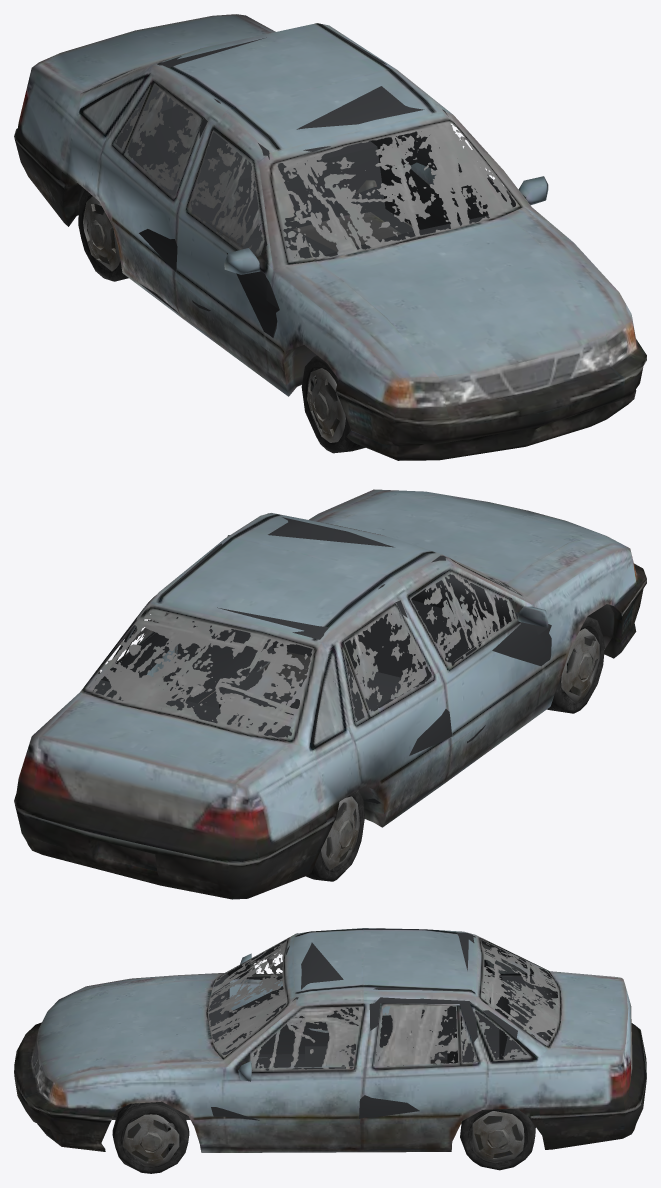
Rendered from car3_sedan_compact.glb.
3 renders of one model, top to bottom at view 1: azimuth 30°, elevation 25°; view 2: azimuth 150°, elevation 25°; view 3: azimuth 270°, elevation 25°, orthographic. The views are drawn at different scales.
Parts seen in each view (by area): view 1: Plane, Plane.004, Cylinder.011, Cylinder.013, Cylinder.010, Cylinder.012; view 2: Plane, Plane.004, Cylinder.011, Cylinder.013, Cylinder.010, Cylinder.012; view 3: Plane, Plane.004, Cylinder.006, Cylinder.009, Cylinder.007, Cylinder.003.
Part boxes in pixels (<box>): Plane: <box>14,14,646,460</box>; Plane.004: <box>114,24,515,337</box>; Cylinder.011: <box>307,368,345,442</box>; Cylinder.013: <box>83,196,120,271</box>; Cylinder.010: <box>301,355,365,453</box>; Cylinder.012: <box>78,189,128,281</box>; Plane: <box>14,489,646,899</box>; Plane.004: <box>89,513,551,811</box>; Cylinder.011: <box>561,628,599,703</box>; Cylinder.013: <box>321,796,359,870</box>; Cylinder.010: <box>547,616,604,713</box>; Cylinder.012: <box>306,790,364,881</box>; Plane: <box>14,928,646,1152</box>; Plane.004: <box>208,928,557,1150</box>; Cylinder.006: <box>112,1101,189,1173</box>; Cylinder.009: <box>472,1111,524,1163</box>; Cylinder.007: <box>122,1114,179,1166</box>; Cylinder.003: <box>460,1108,535,1170</box>.
Bounding box in the file's own units: 1.9 × 1.29 × 4.3.
5 materials, 4 textured.
